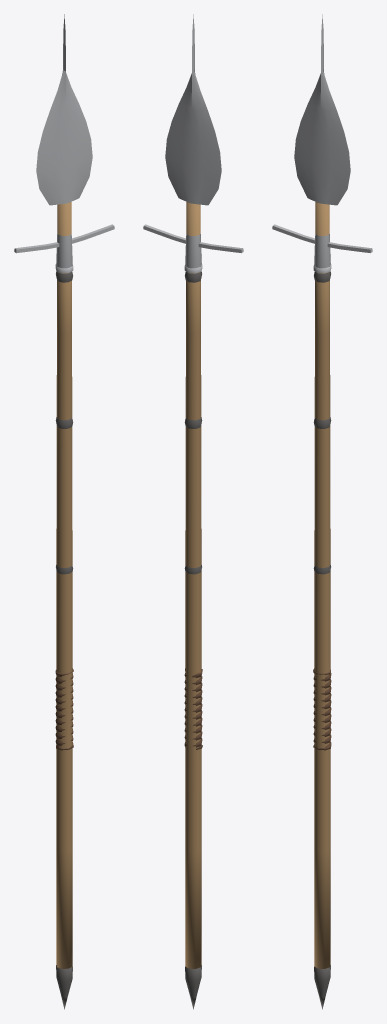
Rendered from dwarven-giant-sticker.glb.
The picture shows the model from 3 angles, left to right: view 1: azimuth 30°, elevation 25°; view 2: azimuth 150°, elevation 25°; view 3: azimuth 330°, elevation 25°; orthographic projection.
Parts seen in each view (by area): view 1: dwarven-giant-sticker; view 2: dwarven-giant-sticker; view 3: dwarven-giant-sticker.
Part boxes in pixels (<box>): dwarven-giant-sticker: <box>14,14,114,1009</box>; dwarven-giant-sticker: <box>143,14,243,1009</box>; dwarven-giant-sticker: <box>272,14,372,1009</box>.
Bounding box in the file's own units: 0.7048 × 6.8 × 0.1133.
